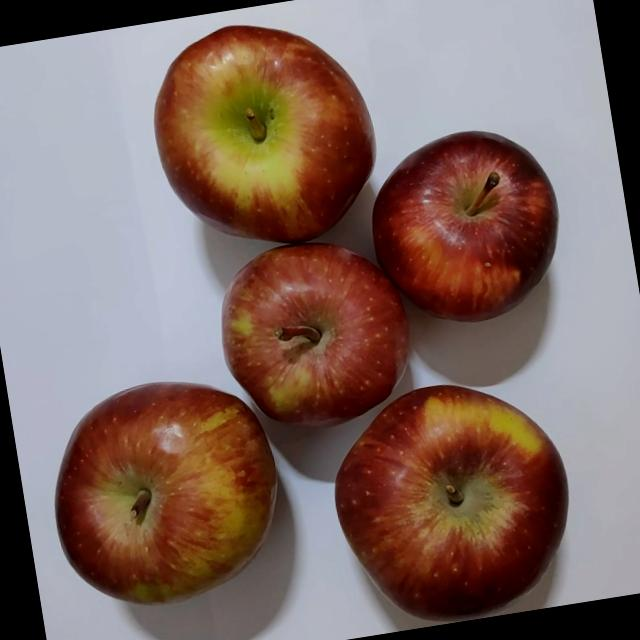apple: (313, 362, 592, 638), (30, 357, 301, 638), (136, 2, 394, 272), (352, 113, 580, 349), (198, 223, 425, 445)
